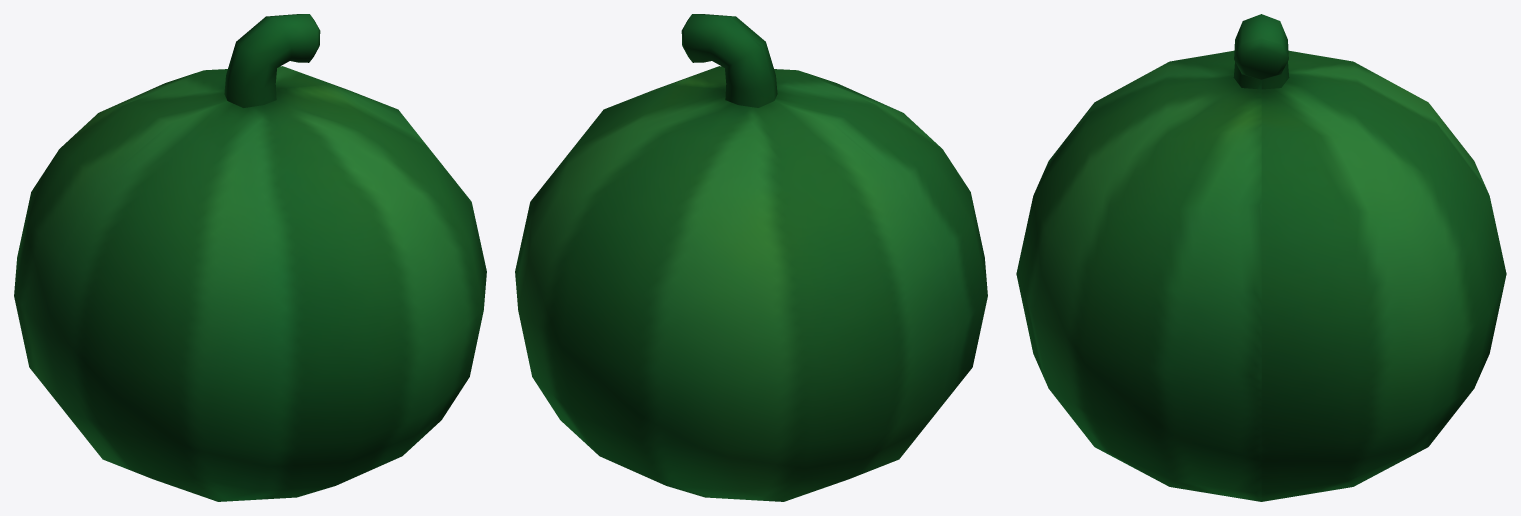
Rendered from watermelon.glb.
3 views of the same model, side by side, from view 1: azimuth 30°, elevation 25°; view 2: azimuth 150°, elevation 25°; view 3: azimuth 270°, elevation 25° (orthographic). The views are drawn at different scales.
Visible parts, largest first — view 1: geometry_0; view 2: geometry_0; view 3: geometry_0.
Boxes of the visible parts, x1=… form: geometry_0: x1=14, y1=14, x2=486, y2=501; geometry_0: x1=515, y1=14, x2=987, y2=501; geometry_0: x1=1016, y1=14, x2=1506, y2=501.
Bounding box in the file's own units: 3.33 × 3.55 × 3.33.
1 material, 1 textured.
